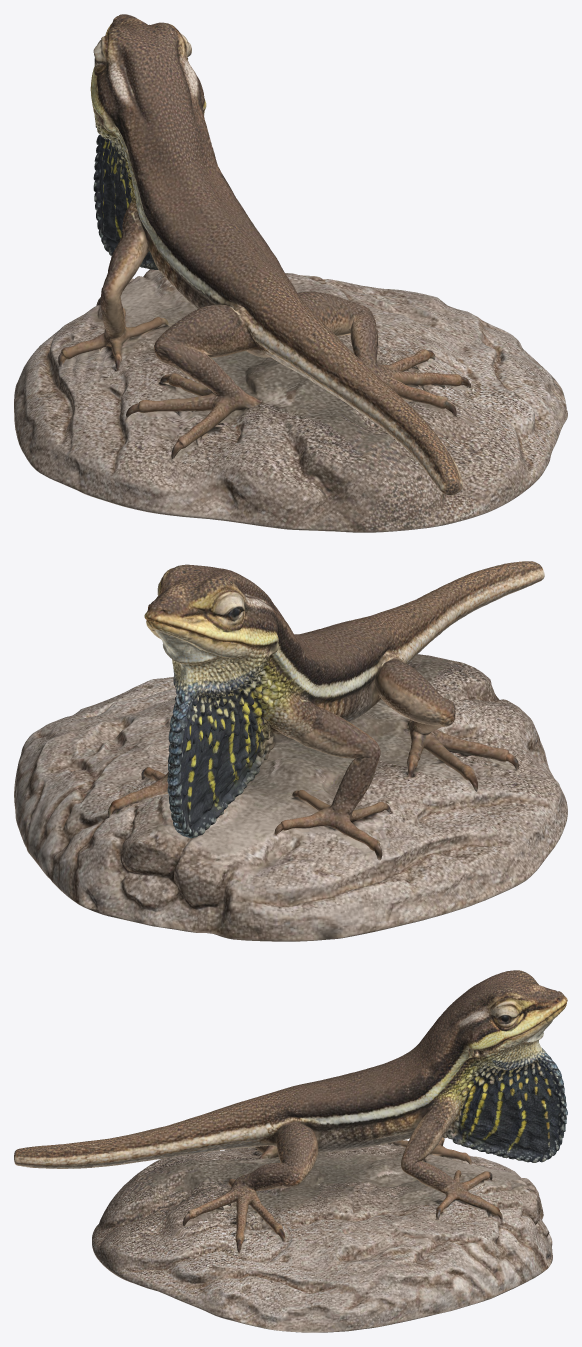
The model's file is reptiles.glb.
The picture shows the model from 3 angles, top to bottom: view 1: azimuth 30°, elevation 25°; view 2: azimuth 150°, elevation 25°; view 3: azimuth 270°, elevation 25°; orthographic projection. The views are drawn at different scales.
Visible parts, largest first — view 1: tripo_node_cc5ef590-a976-4cd3-ae30-78f2eac246a3; view 2: tripo_node_cc5ef590-a976-4cd3-ae30-78f2eac246a3; view 3: tripo_node_cc5ef590-a976-4cd3-ae30-78f2eac246a3.
Part boxes in pixels (<box>): tripo_node_cc5ef590-a976-4cd3-ae30-78f2eac246a3: <box>14,14,567,532</box>; tripo_node_cc5ef590-a976-4cd3-ae30-78f2eac246a3: <box>14,561,567,941</box>; tripo_node_cc5ef590-a976-4cd3-ae30-78f2eac246a3: <box>14,970,567,1332</box>.
Size of the model in its own units: 0.7767 by 0.5005 by 0.9813.
1 material, 1 textured.
